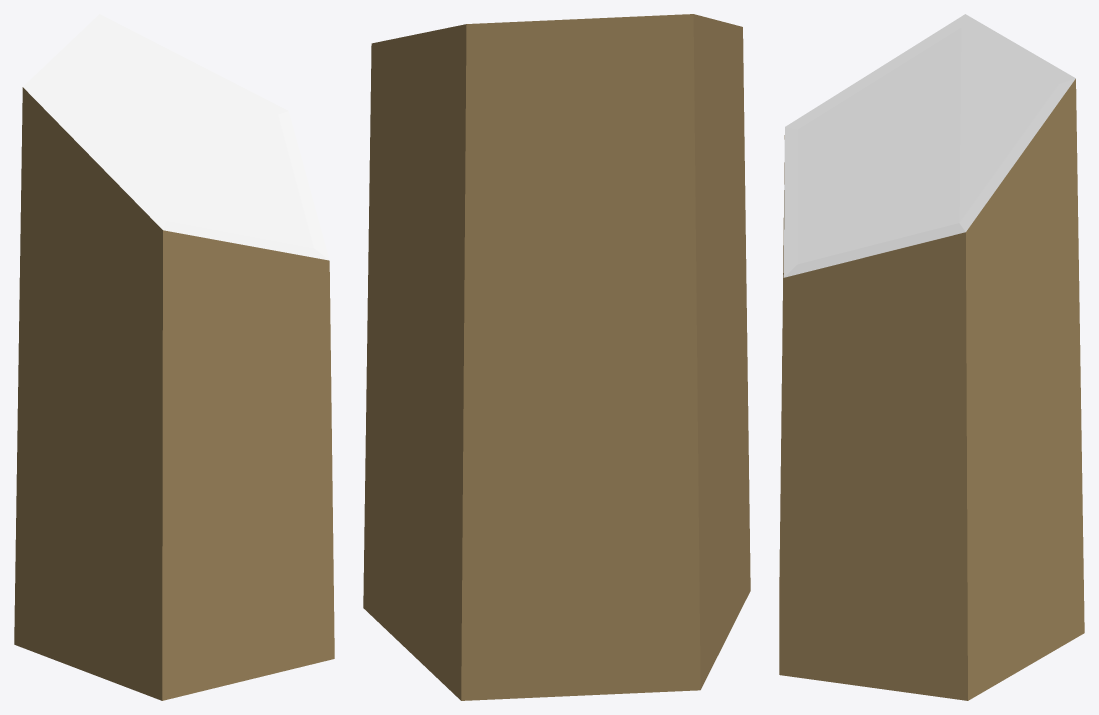
File: Thuja_Stump_Snow_02.fbx
3 renders of one model, left to right at view 1: azimuth 30°, elevation 25°; view 2: azimuth 150°, elevation 25°; view 3: azimuth 270°, elevation 25°, orthographic. The views are drawn at different scales.
Parts seen in each view (by area): view 1: Thuja_Stump_Snow_02; view 2: Thuja_Stump_Snow_02; view 3: Thuja_Stump_Snow_02.
Part boxes in pixels (x1,y1,x2,y2): Thuja_Stump_Snow_02: (14, 14, 334, 700); Thuja_Stump_Snow_02: (363, 14, 750, 700); Thuja_Stump_Snow_02: (779, 14, 1084, 700).
Size of the model in its own units: 25.41 by 48.45 by 24.17.
